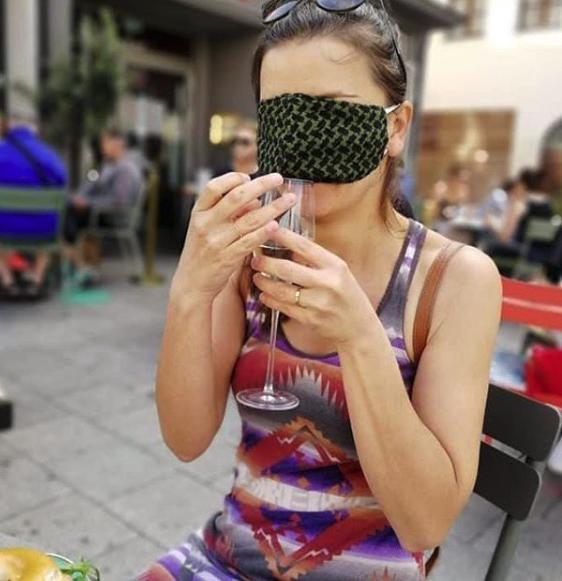mask_weared_incorrect: (245, 78, 389, 226)
without_mask: (234, 132, 256, 163), (99, 137, 119, 160)
